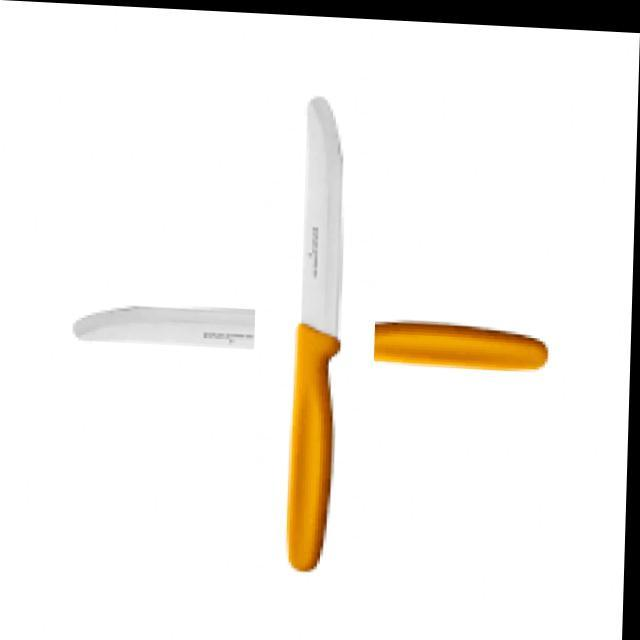knife: (72, 303, 550, 377), (282, 95, 346, 576)
